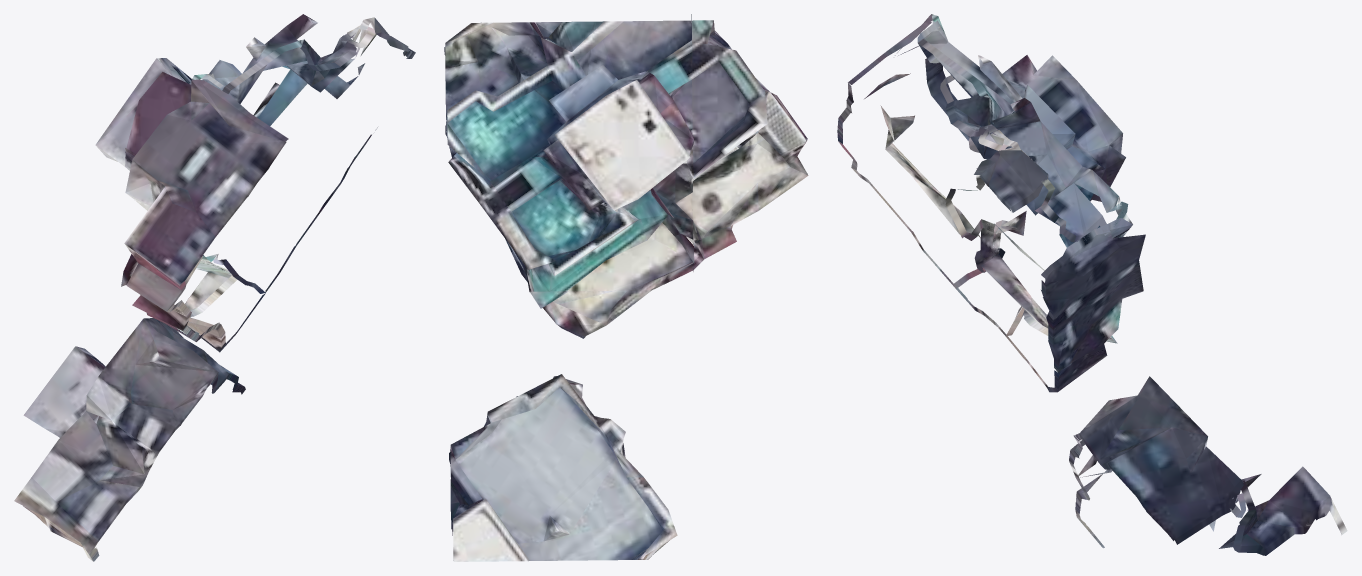
3 renders of one model, left to right at view 1: azimuth 30°, elevation 25°; view 2: azimuth 150°, elevation 25°; view 3: azimuth 270°, elevation 25°, orthographic. The views are drawn at different scales.
Size of the model in its own units: 25.32 by 37.77 by 32.1.
Materials: 1 (1 with a texture image).
